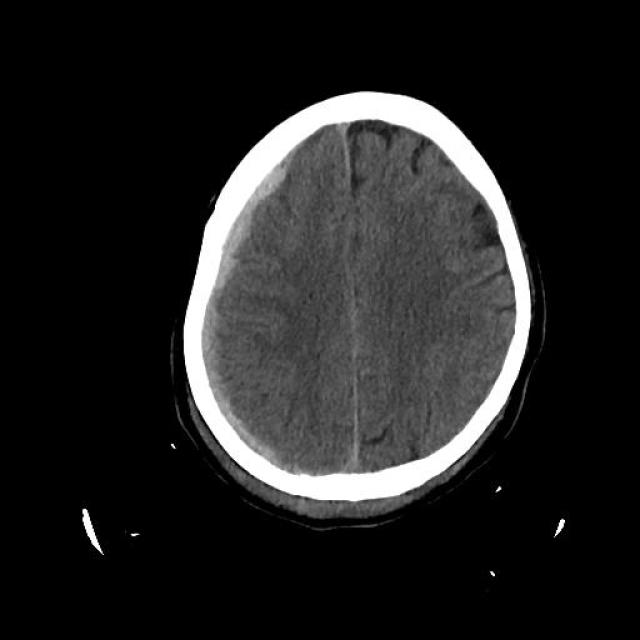Subdural: (141, 134, 320, 498)
